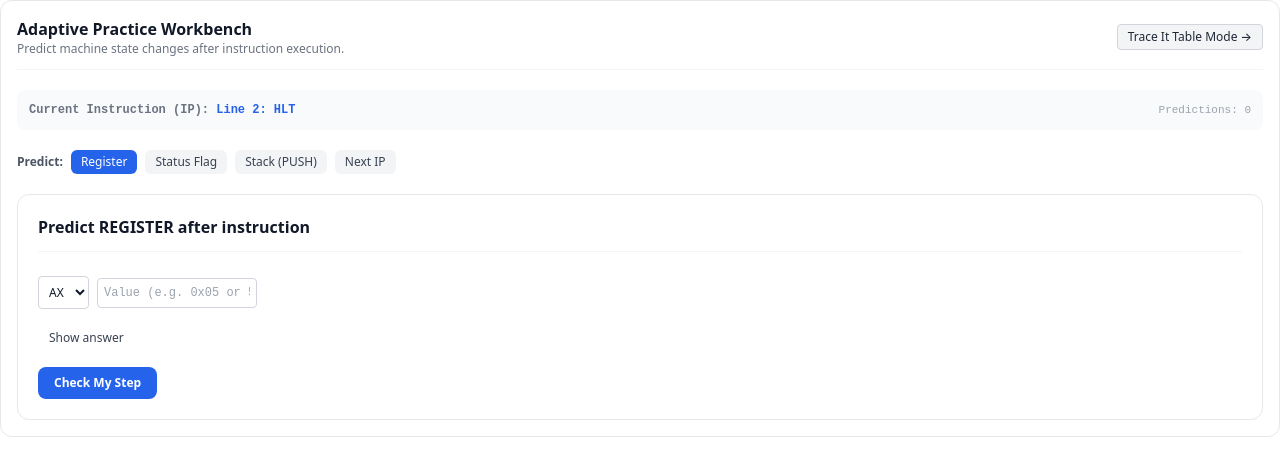
Test case: CpuPractice › clicking Show Answer logs assisted event and shows expected value
The image size is (1280, 454).
Click the button with aria-label "Reveal step answer" at (86, 338), box [38,325,135,351]
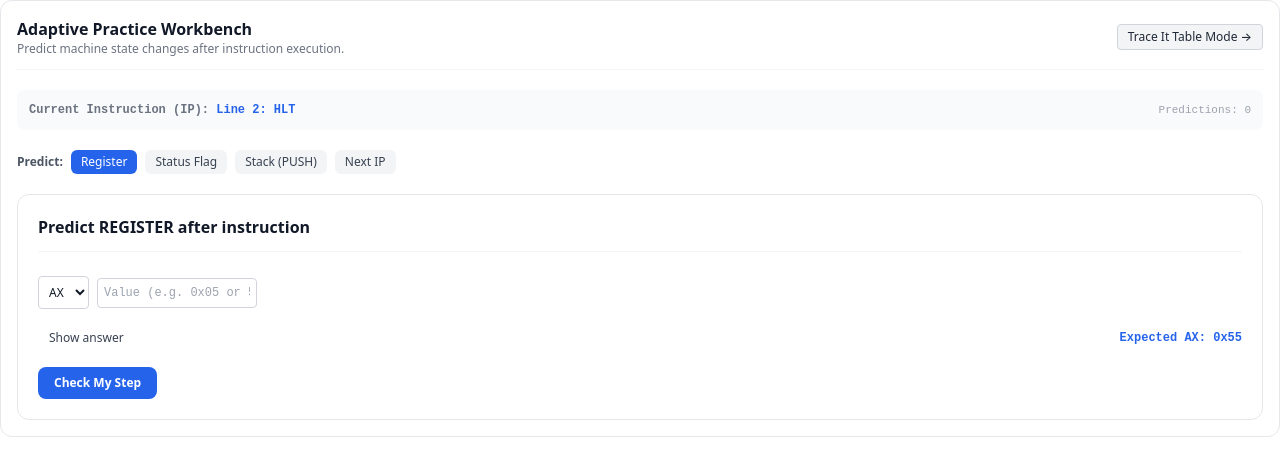
Expected: the text "Expected AX: 0x55" is shown, [1120,330,1242,346]
